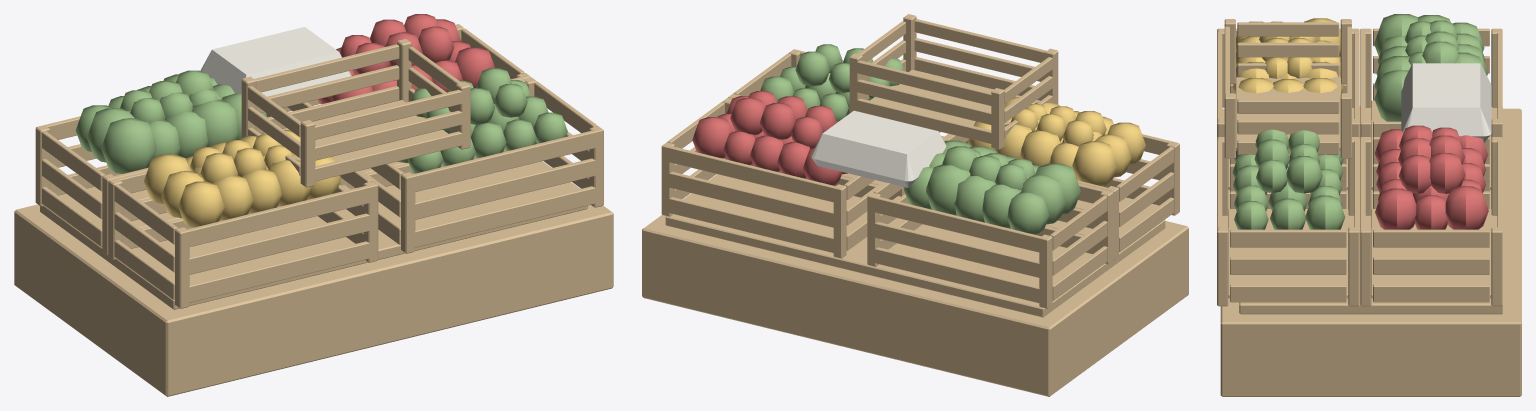
File: indoor-market-hall-and-traders-fruit-and-veg-crate-set-222d673b.glb
3 views of the same model, side by side, from view 1: azimuth 30°, elevation 25°; view 2: azimuth 150°, elevation 25°; view 3: azimuth 270°, elevation 25° (orthographic). The views are drawn at different scales.
Parts seen in each view (by area): view 1: fruit-and-veg-crate-set; view 2: fruit-and-veg-crate-set; view 3: fruit-and-veg-crate-set.
Boxes of the visible parts, x1,y1,x2,y2 form: fruit-and-veg-crate-set: (14, 14, 613, 396); fruit-and-veg-crate-set: (642, 14, 1188, 396); fruit-and-veg-crate-set: (1217, 14, 1521, 396).
Bounding box in the file's own units: 1.35 × 0.68 × 0.8091.
